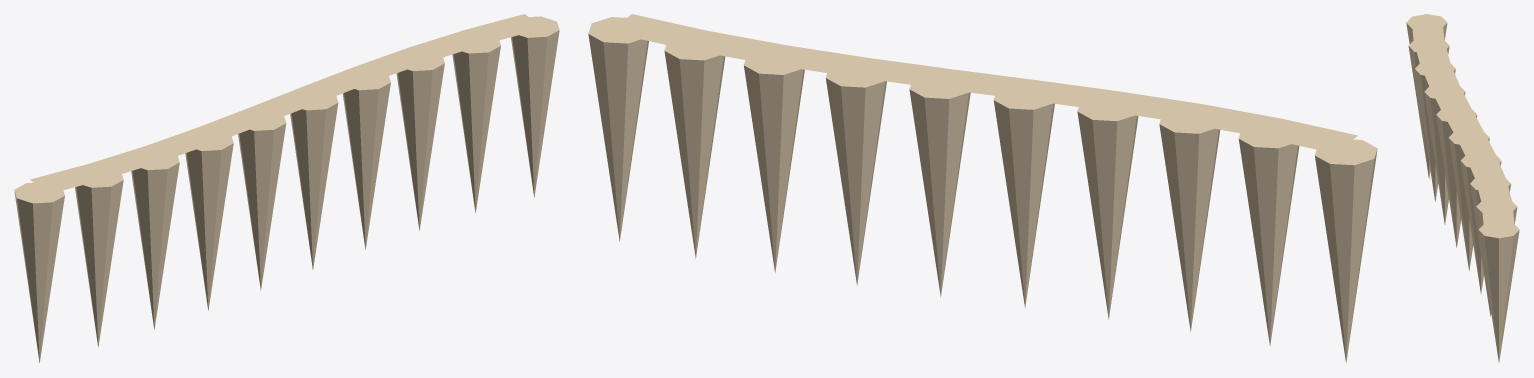
The model's file is teeth_strip_upper.glb.
The picture shows the model from 3 angles, left to right: view 1: azimuth 30°, elevation 25°; view 2: azimuth 150°, elevation 25°; view 3: azimuth 270°, elevation 25°; orthographic projection. The views are drawn at different scales.
Visible parts, largest first — view 1: teeth_strip_upper; view 2: teeth_strip_upper; view 3: teeth_strip_upper.
Boxes of the visible parts, bbox=[...] form: teeth_strip_upper: bbox=[14, 14, 559, 362]; teeth_strip_upper: bbox=[588, 14, 1377, 363]; teeth_strip_upper: bbox=[1406, 14, 1519, 362].
Bounding box in the file's own units: 0.412 × 0.119 × 0.088.
